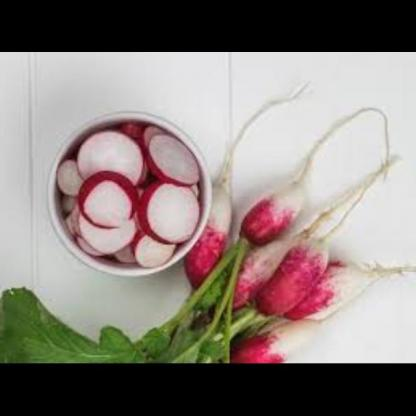rediska: (54, 126, 204, 271), (225, 218, 316, 318), (249, 230, 335, 328), (277, 261, 388, 325), (184, 171, 240, 296), (247, 162, 318, 260), (234, 314, 328, 364)
